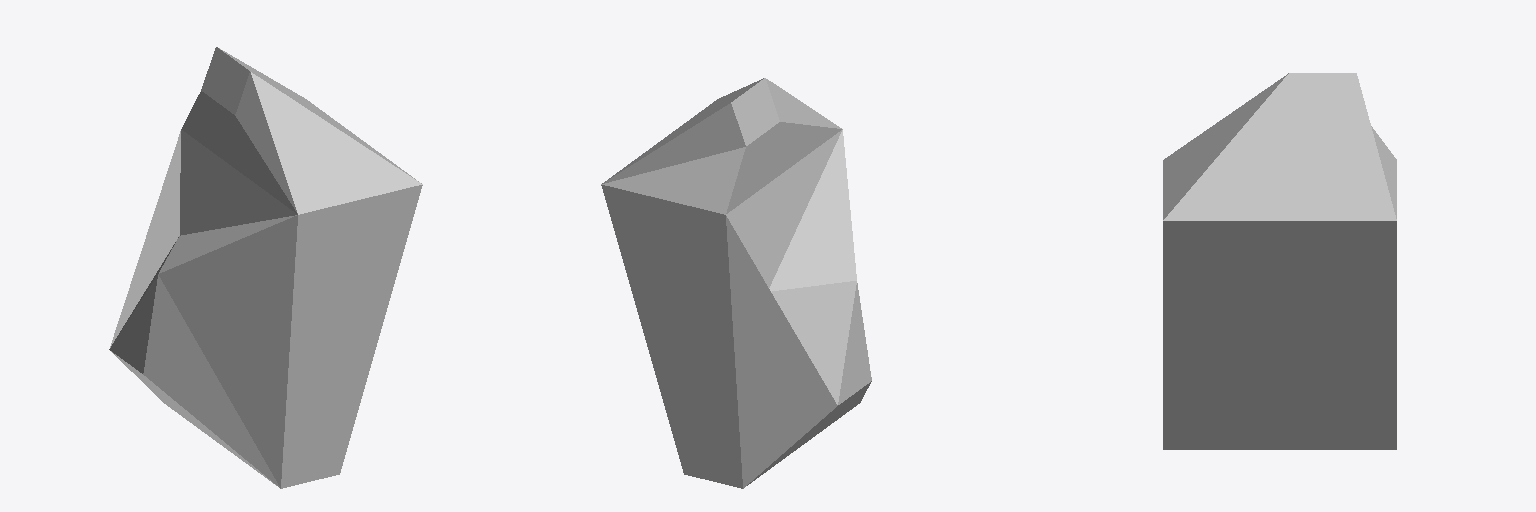
The model's file is Trash12.obj.
The picture shows the model from 3 angles: view 1: azimuth 30°, elevation 25°; view 2: azimuth 150°, elevation 25°; view 3: azimuth 270°, elevation 25°; orthographic projection.
Visible parts, largest first — view 1: Trash12; view 2: Trash12; view 3: Trash12.
Boxes of the visible parts, <box> form: Trash12: <box>109,47,422,488</box>; Trash12: <box>601,78,871,488</box>; Trash12: <box>1163,73,1396,449</box>.
Size of the model in its own units: 3.67 by 5.88 by 3.43.